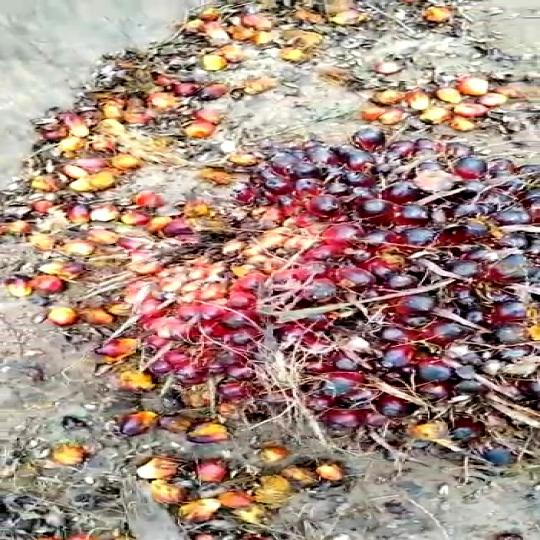kurang masak: (99, 132, 540, 464)
